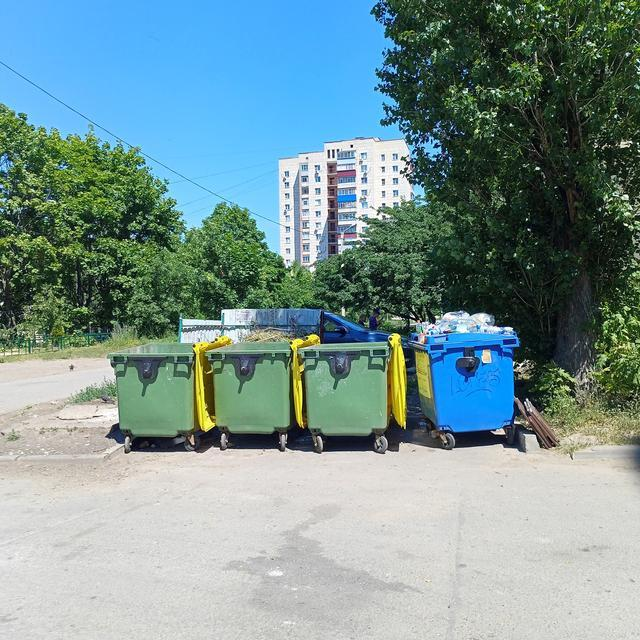Trash_Can_Empty: (298, 342, 391, 436), (107, 341, 197, 437), (205, 340, 293, 434)
Trash_Can_Full: (408, 309, 520, 431)
